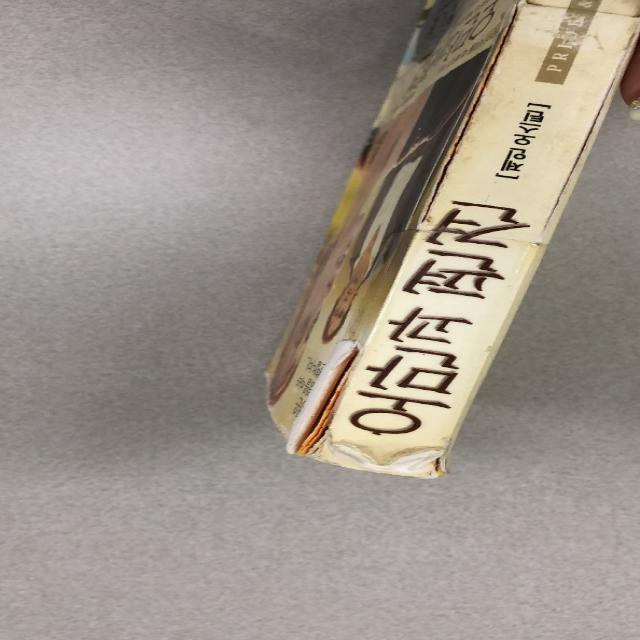Ripped: (417, 1, 526, 224), (537, 23, 639, 239), (280, 338, 381, 479), (381, 436, 466, 486)
